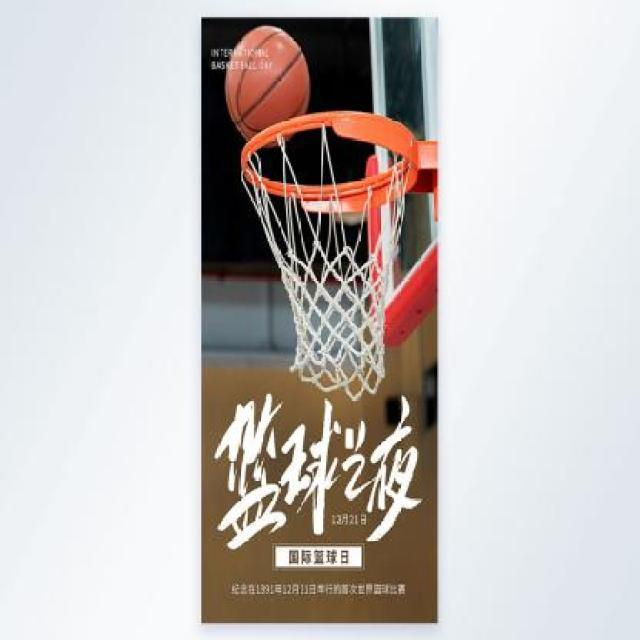basketball: (226, 25, 308, 147)
rim: (242, 108, 416, 400)
